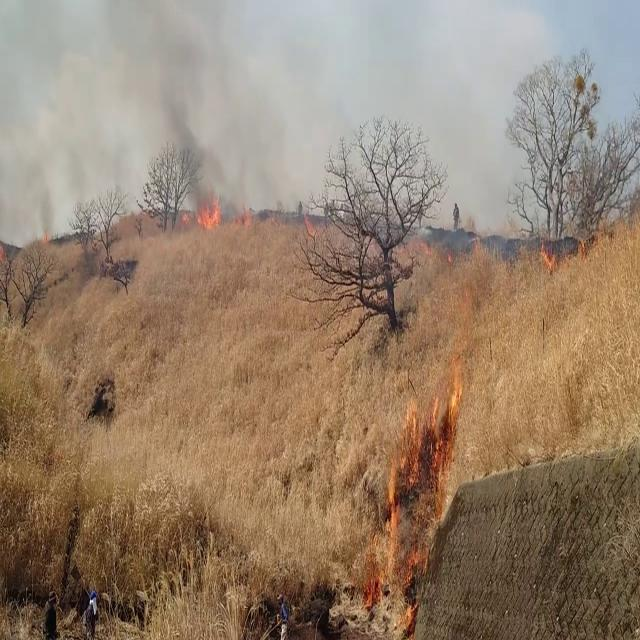Fire: (364, 312, 474, 618), (196, 188, 223, 234)
Smoke: (0, 0, 238, 244)
